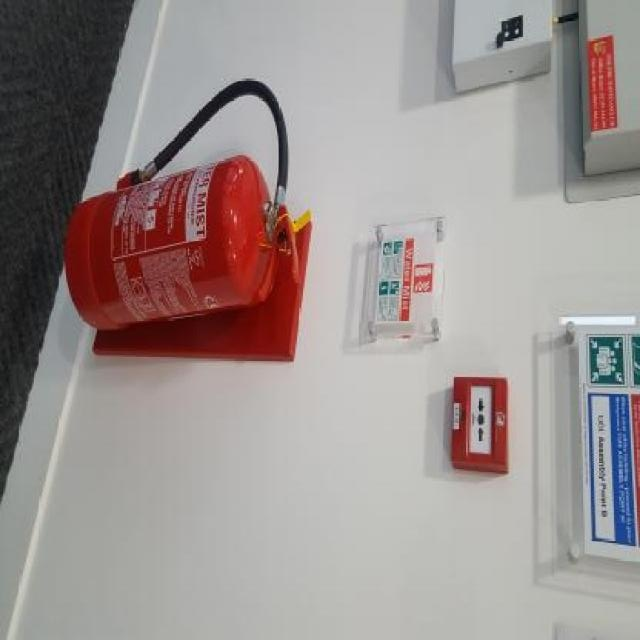fire extinguisher: (63, 78, 300, 336)
